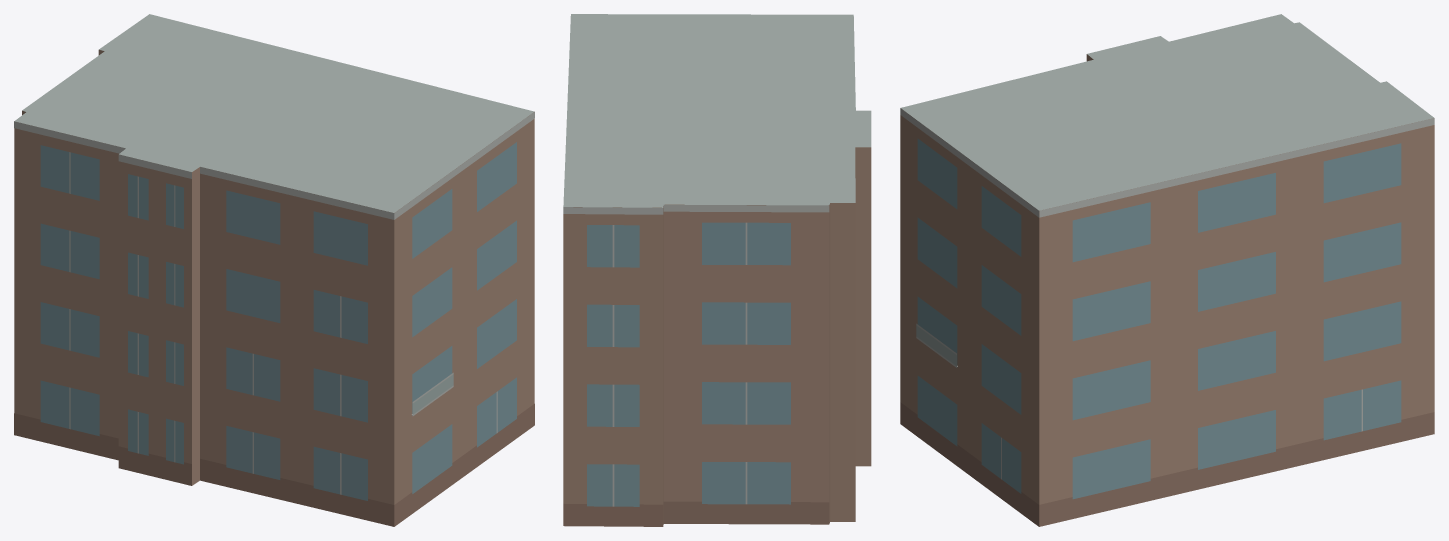
File: survey-upis-32841847.glb
3 views of the same model, side by side, from view 1: azimuth 30°, elevation 25°; view 2: azimuth 150°, elevation 25°; view 3: azimuth 270°, elevation 25° (orthographic).
Parts seen in each view (by area): view 1: survey-upis-32841847.tmp; view 2: survey-upis-32841847.tmp; view 3: survey-upis-32841847.tmp.
Boxes of the visible parts, x1,y1,x2,y2 form: survey-upis-32841847.tmp: [14, 14, 534, 526]; survey-upis-32841847.tmp: [563, 14, 871, 526]; survey-upis-32841847.tmp: [900, 14, 1434, 526].
Size of the model in its own units: 14.83 by 11.1 by 17.01.
